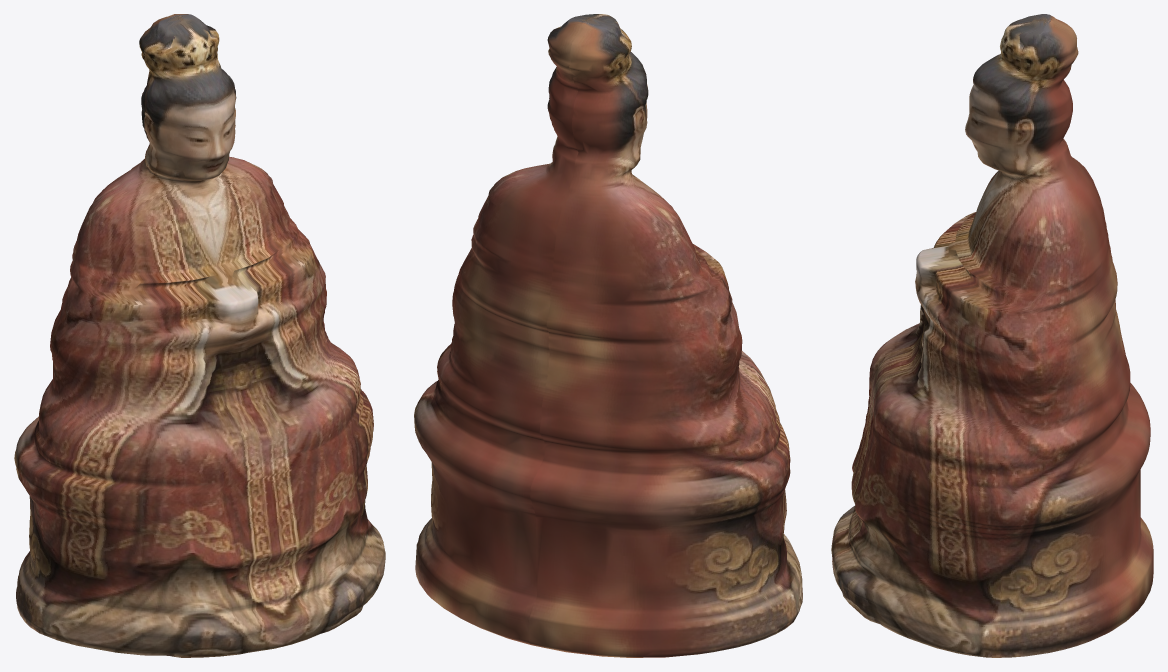
File: yuanshi.glb
3 views of the same model, side by side, from view 1: azimuth 30°, elevation 25°; view 2: azimuth 150°, elevation 25°; view 3: azimuth 270°, elevation 25° (orthographic). The views are drawn at different scales.
Parts seen in each view (by area): view 1: yuanshi; view 2: yuanshi; view 3: yuanshi.
Part boxes in pixels (x1,y1,x2,y2): yuanshi: (14, 14, 385, 657); yuanshi: (414, 14, 802, 657); yuanshi: (831, 14, 1153, 657).
Bounding box in the file's own units: 0.6416 × 1 × 0.5242.
Materials: 1 (1 with a texture image).
